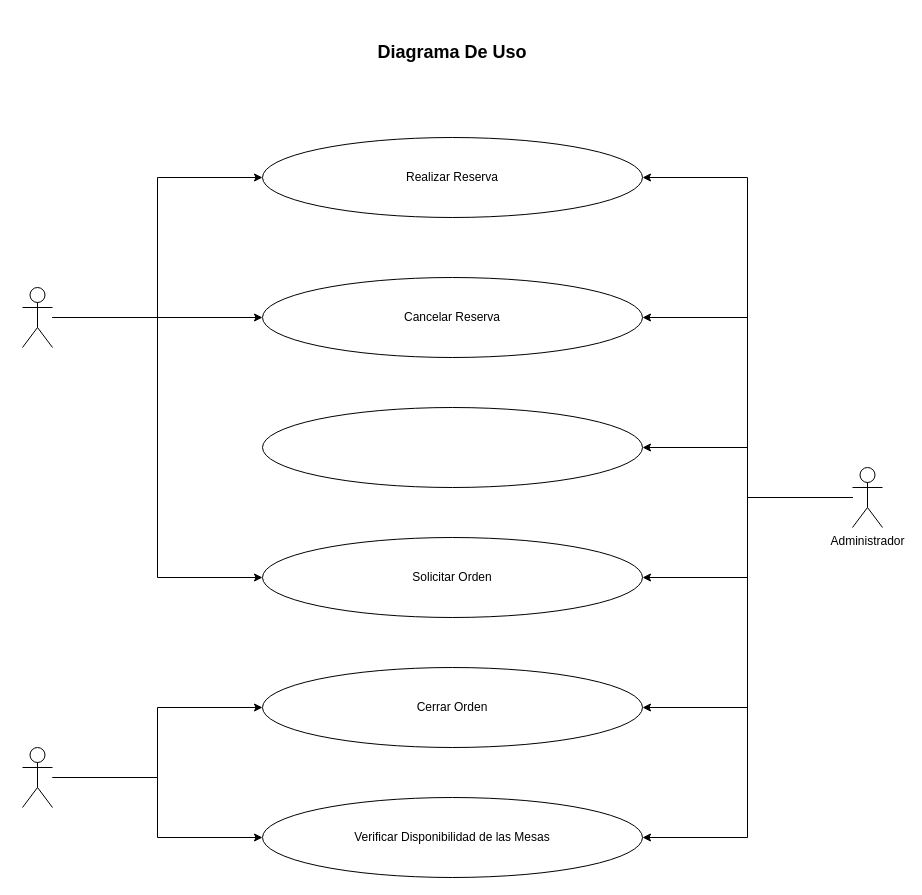
This 922x895 diagram has some shape labels left out. The shapes that lost their labels are listed below. From the top down, each one's centre as x and y in pixels, then its label:
At [37,317]: "Cliente".
At [452,447]: "Asignar Mesas".
At [37,777]: "Mesero".
